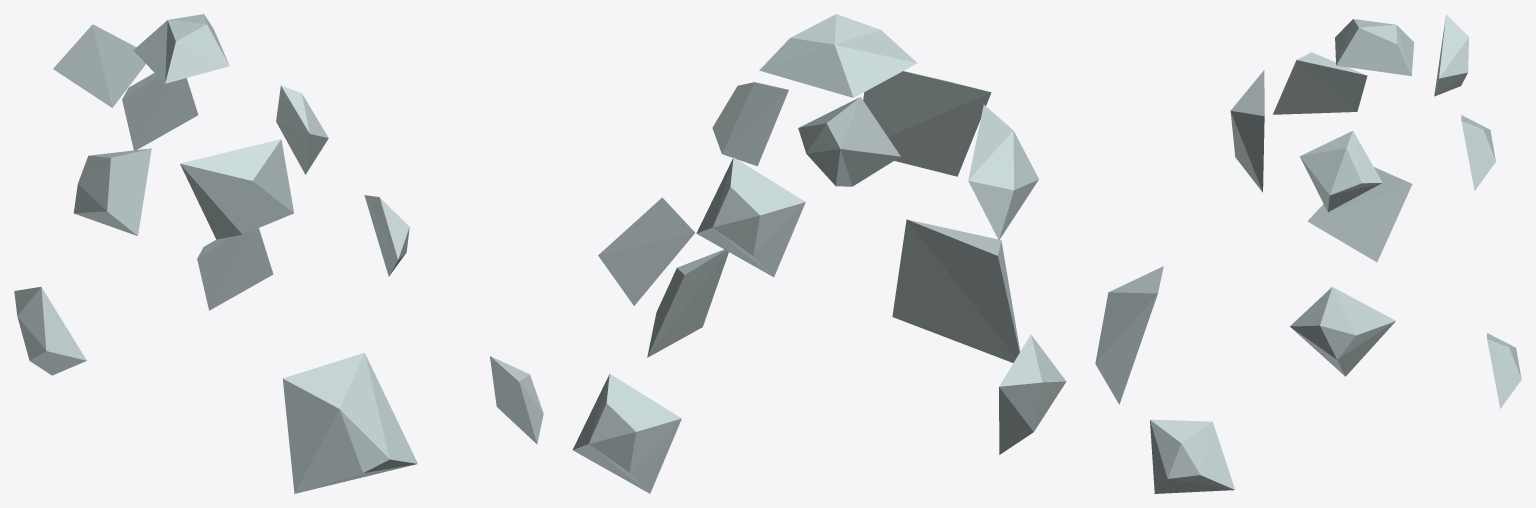
File: SilverOreC.fbx
3 renders of one model, left to right at view 1: azimuth 30°, elevation 25°; view 2: azimuth 150°, elevation 25°; view 3: azimuth 270°, elevation 25°, orthographic. The views are drawn at different scales.
Visible parts, largest first — view 1: SilverOreC; view 2: SilverOreC; view 3: SilverOreC.
Boxes of the visible parts, box(x1,y1,x2,y2) form: SilverOreC: box(14, 14, 543, 493); SilverOreC: box(572, 14, 1066, 493); SilverOreC: box(1095, 14, 1521, 493).
Bounding box in the file's own units: 41.25 × 37.45 × 39.52.
